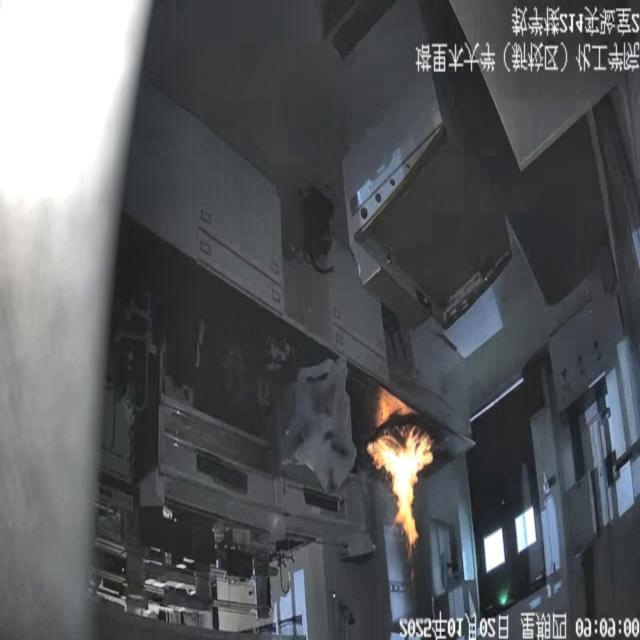fire: (358, 390, 452, 579)
